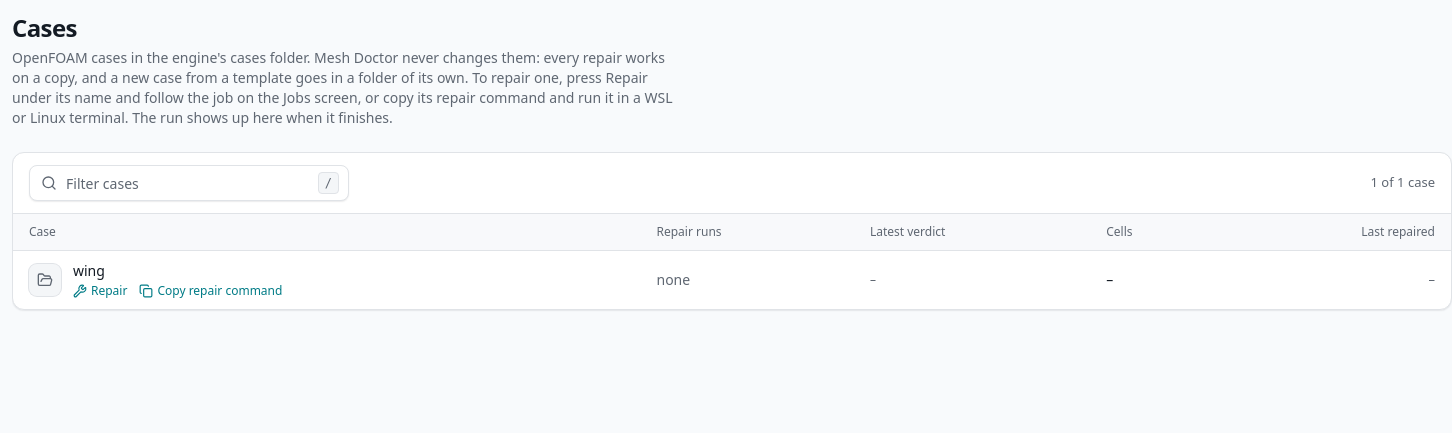
Scenario: the Cases screen of your own engine › counts one case as “1 of 1 case”, and none shown of it as “0 of 1 case”
Expected: the text "1 of 1 case" is shown, [1370, 173, 1435, 191]
Step 1. Type "pitz" into the search field labelled "Filter cases" → (189, 183), box [29, 165, 349, 201]
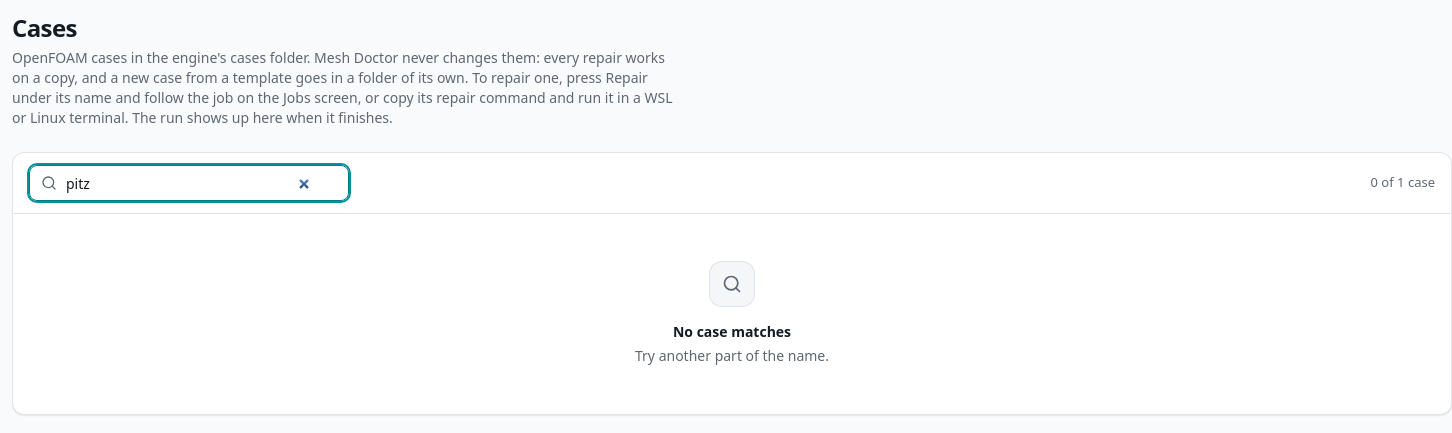
Expected: the text "0 of 1 case" is shown, [1370, 173, 1435, 191]
